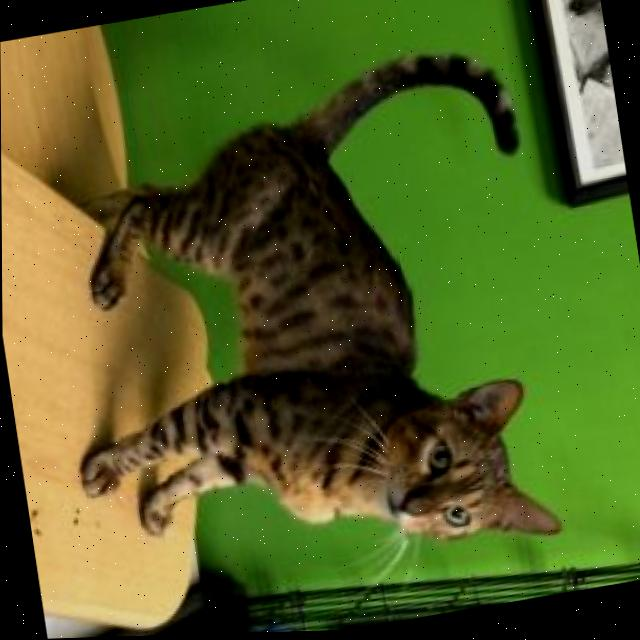Egyptian Mau: (22, 38, 581, 618)
